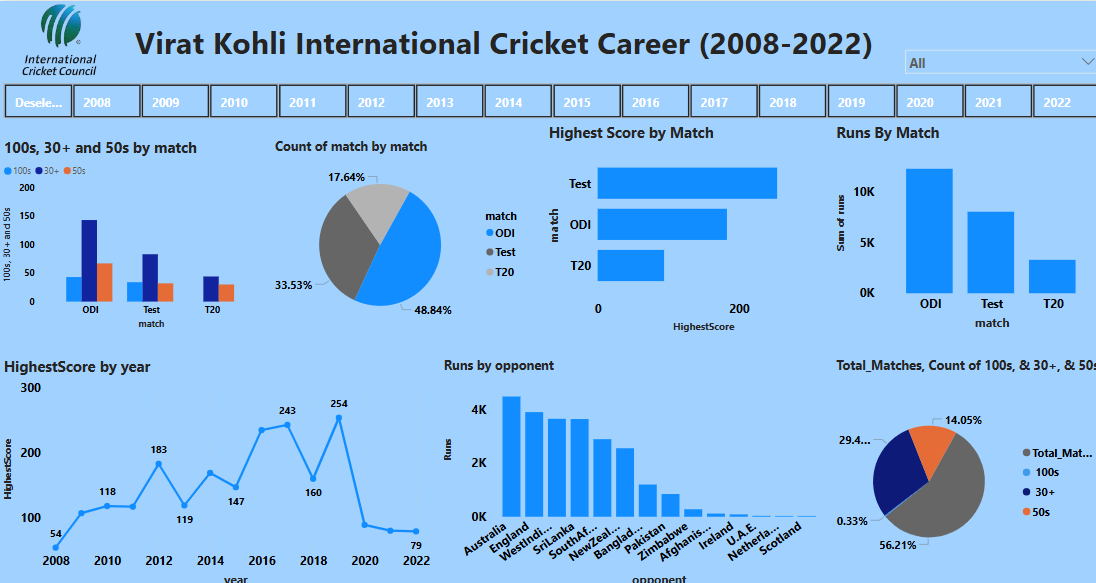

The dashboard page shown, as its layout file describes it:
{"tool":"powerbi","page":{"name":"Page 2","canvas":[1450,757],"ordinal":1},"visuals":[{"type":"pieChart","fields":{"Category":["Virat_Kohli.match"],"Y":["Virat_Kohli.match"]},"box":[363.8,184.1,350.7,269.6],"z":0},{"type":"columnChart","title":"Runs By Match","fields":{"Category":["Virat_Kohli.match"],"Y":["Virat_Kohli.runs"]},"box":[1098.6,176.8,350.7,273.9],"z":1000},{"type":"advancedSlicerVisual","fields":{"Values":["Calender.Date.Variation.Date Hierarchy.Year"]},"box":[0,107.2,1449.3,58],"z":2000},{"type":"barChart","title":"Highest Score by Match","fields":{"Category":["Virat_Kohli.match"],"Y":["Measures_Table.HighestScore"]},"box":[730.4,178.3,350.7,272.5],"z":3000},{"type":"lineChart","fields":{"Category":["Calender.year"],"Y":["Measures_Table.HighestScore"]},"box":[0,475.4,602.9,275.4],"z":4000},{"type":"lineClusteredColumnComboChart","fields":{"Category":["Virat_Kohli.match"],"Y":["Measures_Table.100s","Measures_Table.30+","Measures_Table.50s"]},"box":[0,184.1,349.3,266.7],"z":5000},{"type":"donutChart","title":"Total_Matches, Count of 100s, & 30+, & 50s","fields":{"Y":["Measures_Table.Total_Matches","Virat_Kohli.100s","Virat_Kohli.30+","Virat_Kohli.50s"]},"box":[1081.2,475.4,368.1,273.9],"z":6000},{"type":"columnChart","fields":{"Category":["Virat_Kohli.opponent"],"Y":["Virat_Kohli.runs"]},"box":[620.3,475.4,442,275.4],"z":7000},{"type":"slicer","fields":{"Values":["Virat_Kohli.opponent"]},"box":[1167.2,61.2,283.6,46.3],"z":8000},{"type":"shape","title":"Virat Kohli International Cricket Career (2008-2022)","box":[143.3,11.9,1023.9,59.7],"z":9000},{"type":"image","box":[0,0,143.3,107.5],"z":10000}]}

Visuals, with their boxes in screenshot pixels (x1, y1, x2, y2), scaled from the page's 1450x757 canvas onto the 1096x583 screenshot:
pieChart - Virat_Kohli.match x Virat_Kohli.match: (x1=275, y1=142, x2=540, y2=349)
"Runs By Match" columnChart: (x1=830, y1=136, x2=1095, y2=347)
advancedSlicerVisual - Calender.Date.Variation.Date Hierarchy.Year: (x1=0, y1=83, x2=1095, y2=127)
"Highest Score by Match" barChart: (x1=552, y1=137, x2=817, y2=347)
lineChart - Calender.year x Measures_Table.HighestScore: (x1=0, y1=366, x2=456, y2=578)
lineClusteredColumnComboChart - Virat_Kohli.match x Measures_Table.100s: (x1=0, y1=142, x2=264, y2=347)
"Total_Matches, Count of 100s, & 30+, & 50s" donutChart: (x1=817, y1=366, x2=1095, y2=577)
columnChart - Virat_Kohli.opponent x Virat_Kohli.runs: (x1=469, y1=366, x2=803, y2=578)
slicer - Virat_Kohli.opponent: (x1=882, y1=47, x2=1095, y2=83)
"Virat Kohli International Cricket Career (2008-2022)" shape: (x1=108, y1=9, x2=882, y2=55)
image: (x1=0, y1=0, x2=108, y2=83)
